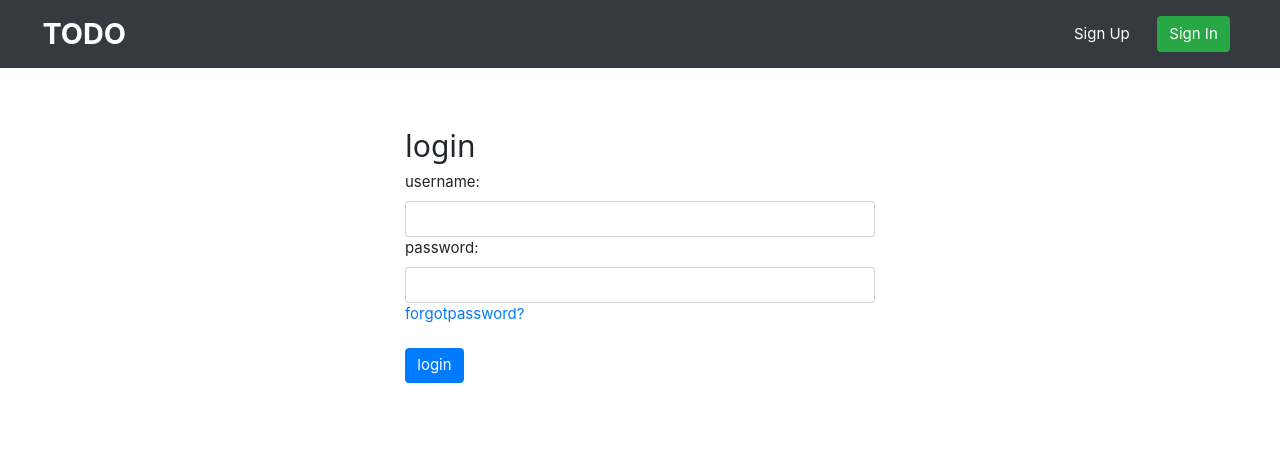
Test: To Do app › Login › login fails with wrong password
Type "tanuj" into the field with id "username". click: (640, 219)
box: [405,201,875,237]
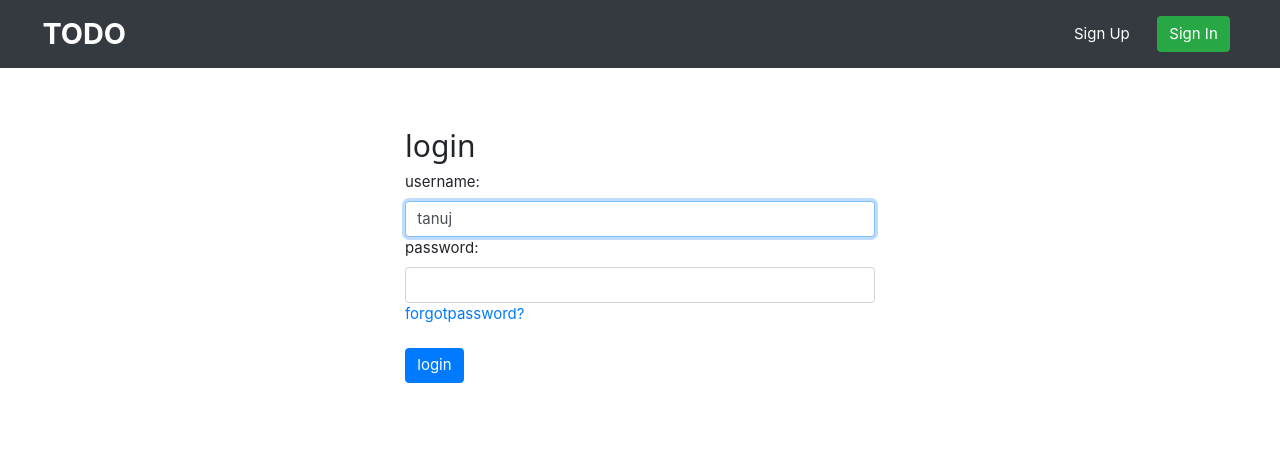
Type "wrong" into the password field. click: (640, 285)
box: [405,267,875,303]
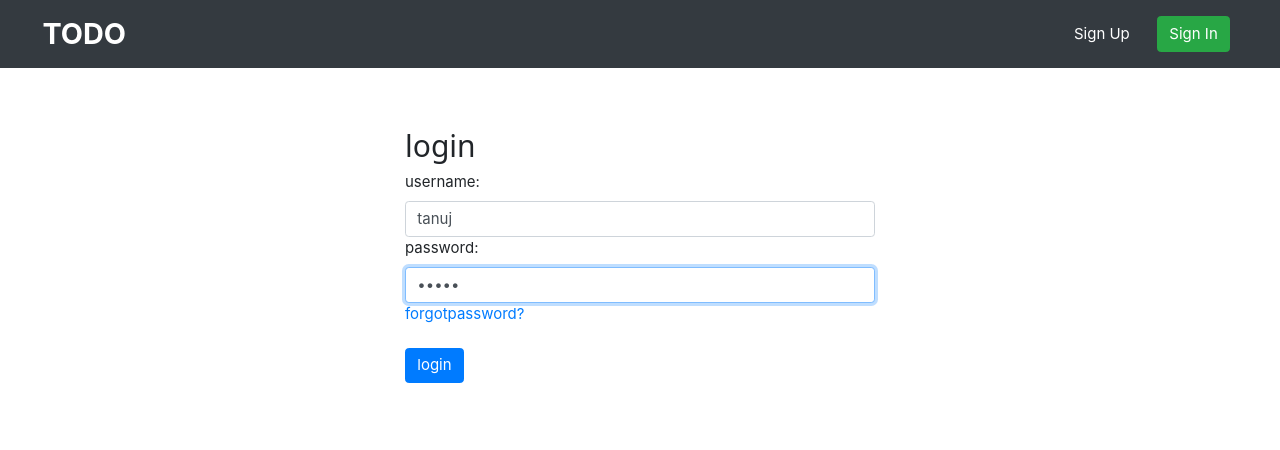
Click the button with id "loginbutton". click: (435, 366)
box: [405,348,464,384]
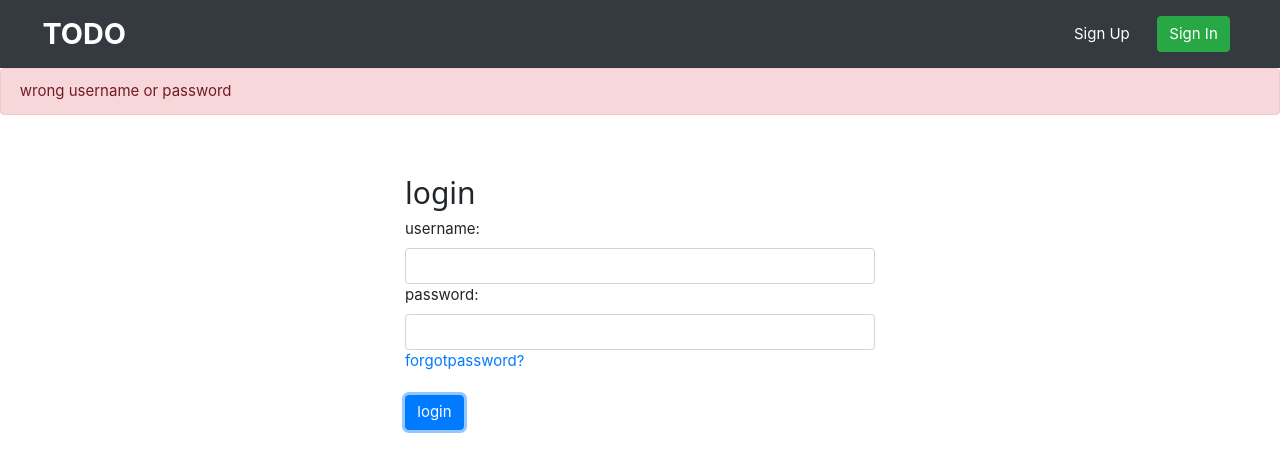
Result: the text "wrong username or password" is shown at [0,68,1279,115]
